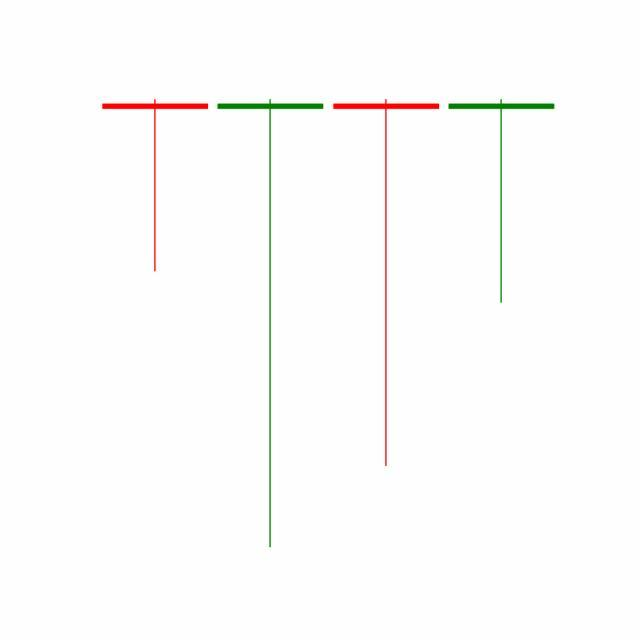Dragonfly Doji: (444, 98, 560, 306)
